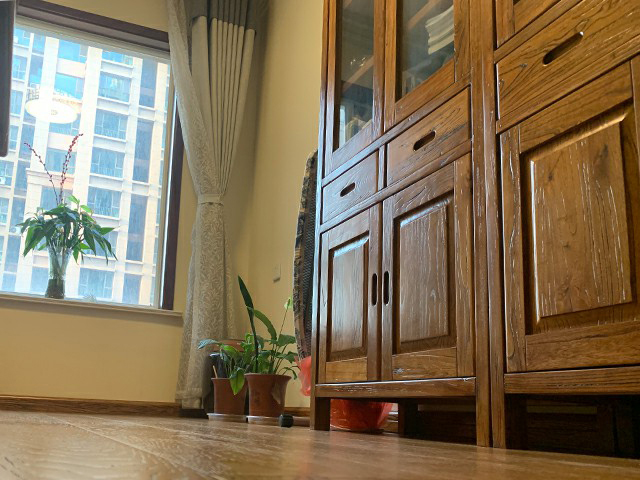cabinet: (312, 63, 640, 455)
curtain: (162, 1, 256, 412)
